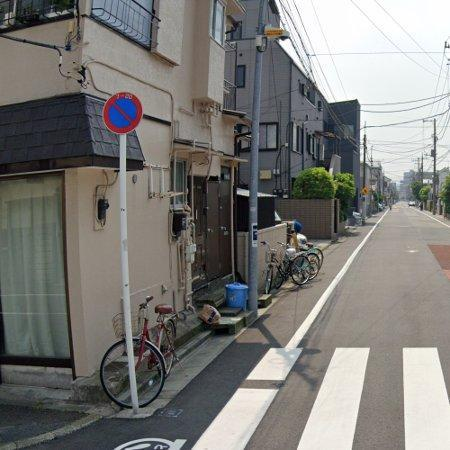crosswalks: (134, 332, 450, 449)
